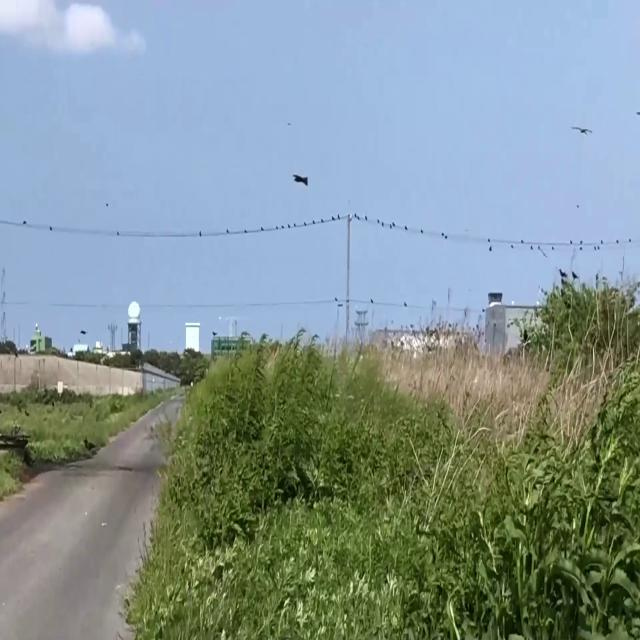bird: (571, 110, 593, 145), (292, 161, 309, 199)
